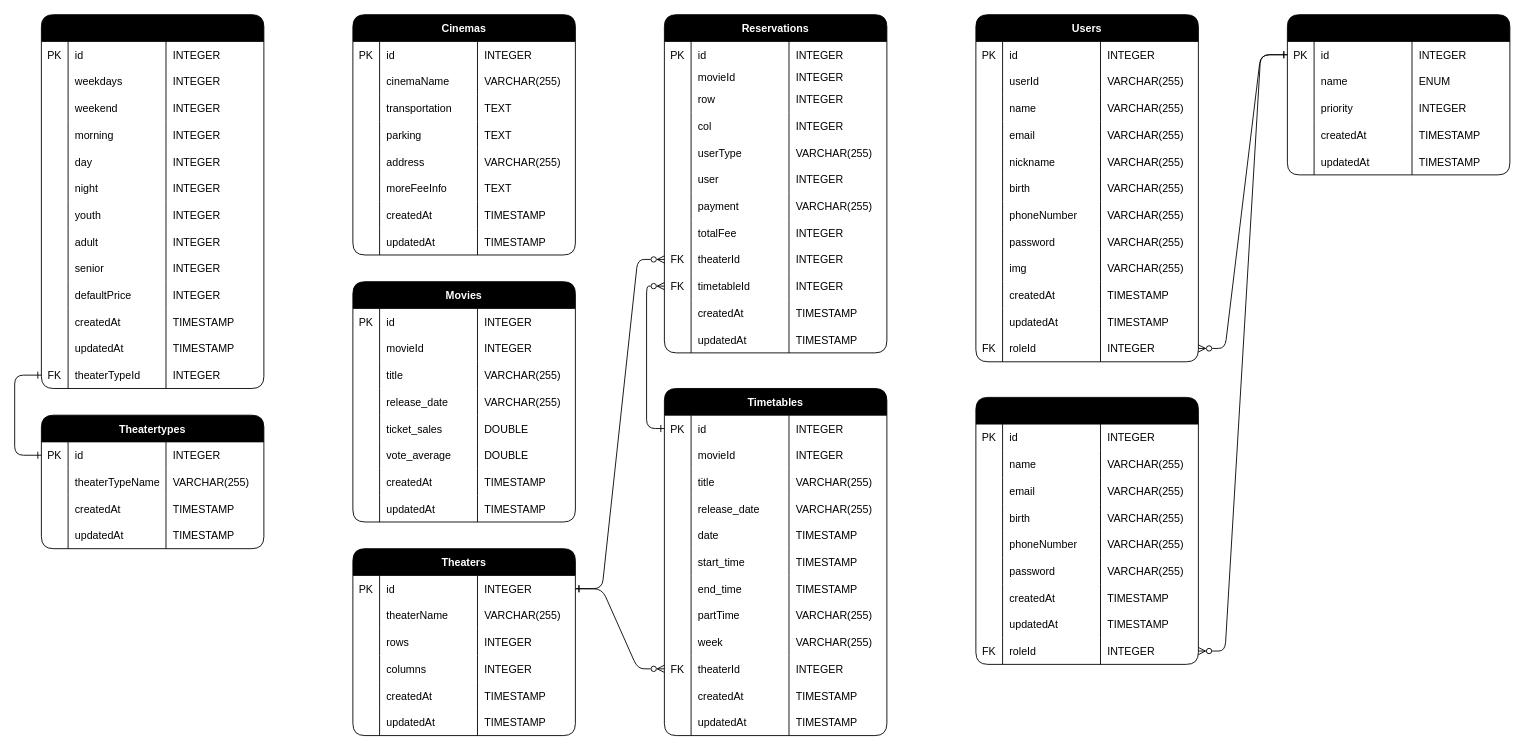
This 1525x750 diagram has some shape labels left out. The box of each missing label's shape, as (x1, y1, x2, y2) in pixels:
Guests: (975, 396, 1198, 664)
Roles: (1286, 14, 1510, 175)
Ticketfees: (40, 14, 264, 388)
